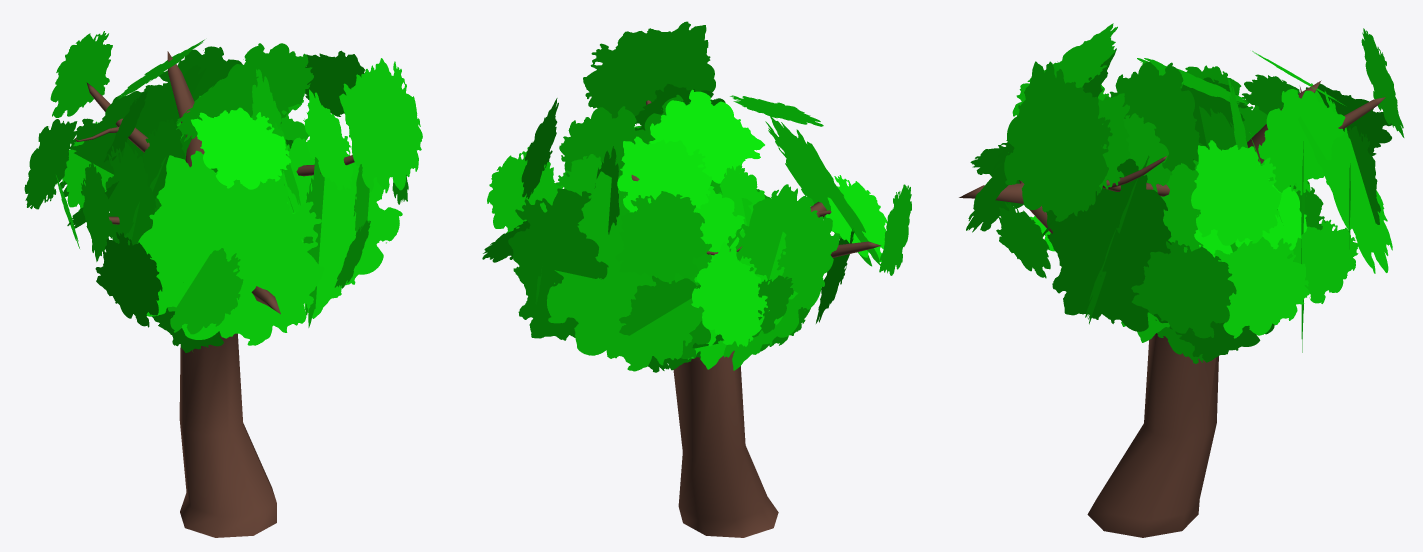
The model's file is Tree2_Leaf_Type2.fbx.
The picture shows the model from 3 angles, left to right: view 1: azimuth 30°, elevation 25°; view 2: azimuth 150°, elevation 25°; view 3: azimuth 270°, elevation 25°; orthographic projection. The views are drawn at different scales.
Parts seen in each view (by area): view 1: LeafClump20 (×2), Tree1, LeafClump21 (×2), LeafClump18, LeafClump33, LeafClump19 (×2), LeafClump25 (×2), LeafClump5, LeafClump, LeafClump9, LeafClump2, LeafClump31 (+13 smaller); view 2: Tree1, LeafClump5, LeafClump20 (×2), LeafClump31, LeafClump15 (×2), LeafClump4, LeafClump2, LeafClump10, LeafClump6, LeafClump17, LeafClump28, LeafClump13 (+13 smaller); view 3: Tree1, LeafClump21 (×2), LeafClump33, LeafClump17, LeafClump15 (×2), LeafClump25 (×2), LeafClump24, LeafClump16 (×2), LeafClump19 (×2), LeafClump5, LeafClump28, LeafClump20 (×2) (+14 smaller).
Part boxes in pixels (left/top/right/bottom): LeafClump20 (×2): left=137, top=69, right=388, bottom=345; Tree1: left=167, top=51, right=280, bottom=537; LeafClump21 (×2): left=191, top=50, right=365, bottom=189; LeafClump18: left=280, top=137, right=402, bottom=318; LeafClump33: left=351, top=58, right=422, bottom=193; LeafClump19 (×2): left=226, top=43, right=313, bottom=133; LeafClump25 (×2): left=159, top=46, right=353, bottom=190; LeafClump5: left=60, top=65, right=206, bottom=196; LeafClump: left=95, top=232, right=162, bottom=327; LeafClump9: left=167, top=248, right=243, bottom=334; LeafClump2: left=105, top=141, right=156, bottom=245; LeafClump31: left=50, top=31, right=112, bottom=117; Tree1: left=631, top=175, right=826, bottom=537; LeafClump5: left=547, top=171, right=711, bottom=371; LeafClump20 (×2): left=595, top=37, right=880, bottom=266; LeafClump31: left=615, top=191, right=706, bottom=282; LeafClump15 (×2): left=487, top=147, right=710, bottom=358; LeafClump4: left=649, top=89, right=764, bottom=183; LeafClump2: left=723, top=184, right=824, bottom=370; LeafClump10: left=691, top=241, right=767, bottom=346; LeafClump6: left=617, top=136, right=711, bottom=212; LeafClump17: left=508, top=188, right=591, bottom=340; LeafClump28: left=525, top=214, right=608, bottom=287; LeafClump13: left=776, top=210, right=839, bottom=304; Tree1: left=959, top=80, right=1321, bottom=537; LeafClump21 (×2): left=1044, top=23, right=1281, bottom=245; LeafClump33: left=1004, top=61, right=1107, bottom=221; LeafClump17: left=1046, top=158, right=1171, bottom=331; LeafClump15 (×2): left=1131, top=126, right=1380, bottom=338; LeafClump25 (×2): left=1098, top=89, right=1345, bottom=195; LeafClump24: left=1214, top=236, right=1309, bottom=338; LeafClump16 (×2): left=996, top=202, right=1358, bottom=303; LeafClump19 (×2): left=1109, top=62, right=1247, bottom=171; LeafClump5: left=1298, top=83, right=1392, bottom=273; LeafClump28: left=1048, top=190, right=1129, bottom=285; LeafClump20 (×2): left=966, top=48, right=1116, bottom=232.
Size of the model in its own units: 12.42 by 15.37 by 12.68.
